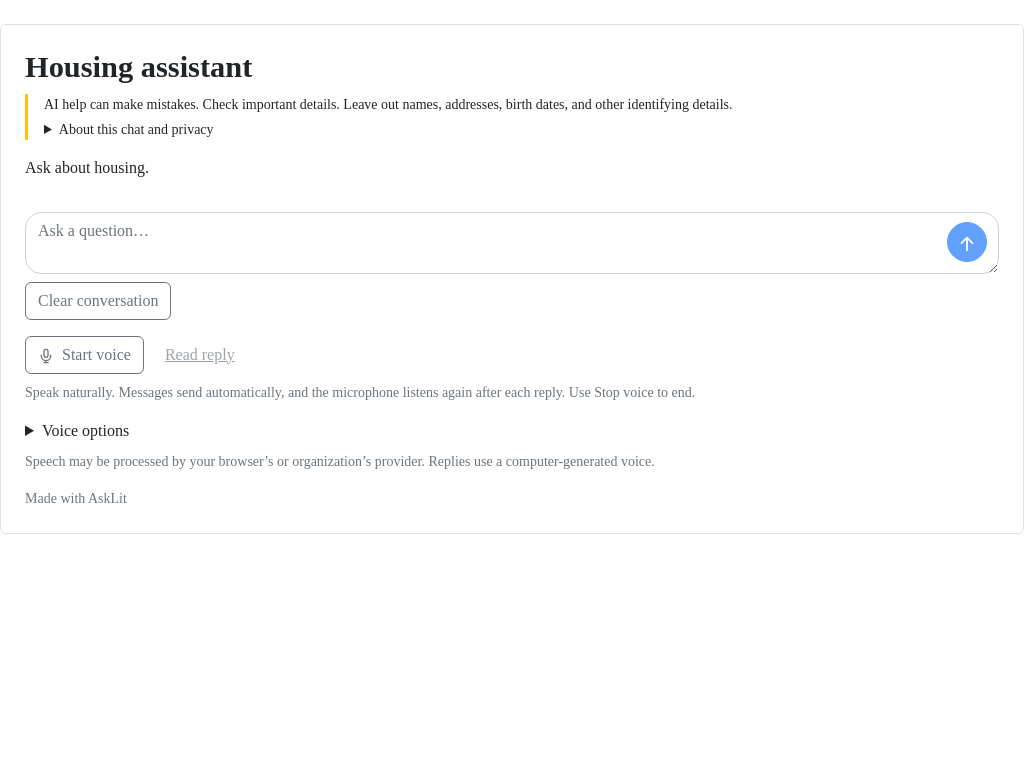
a failed deletion keeps the visible conversation
The image size is (1024, 759).
expect the heading "Housing assistant" is shown: met, box x1=25 y1=50 x2=252 y2=84
Type "Question" into the text box named "Your question".
click(512, 242); type("Question")  # box x1=25 y1=212 x2=999 y2=274
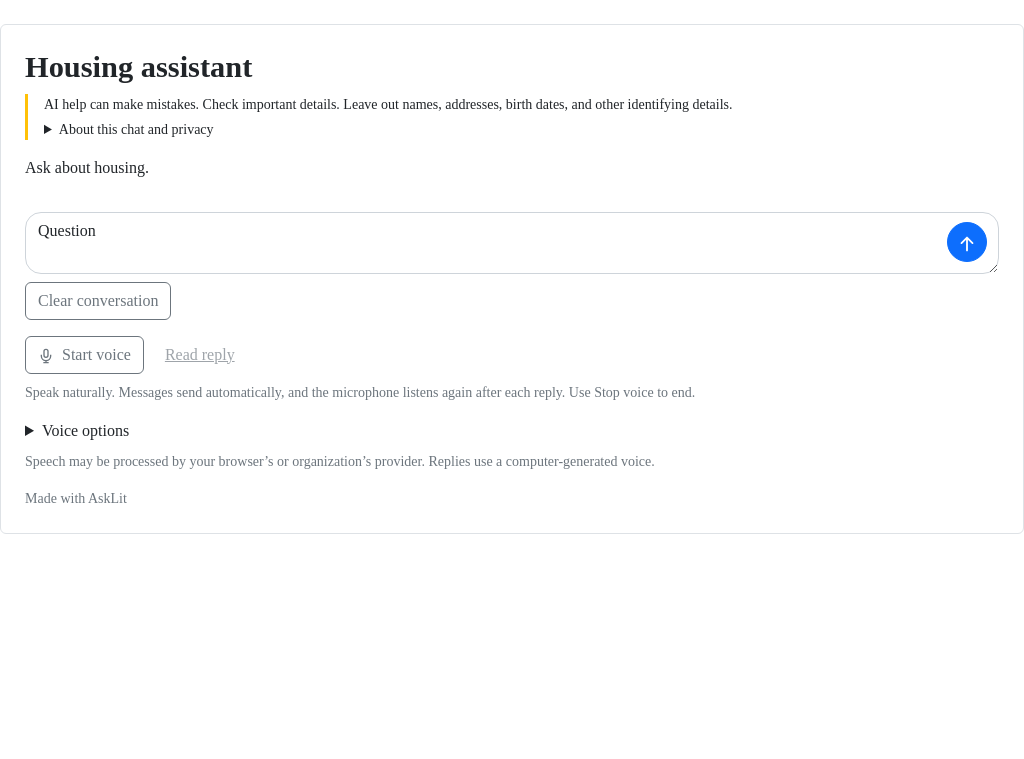
Click the button named "Send".
click(967, 242)  # box x1=947 y1=222 x2=987 y2=262
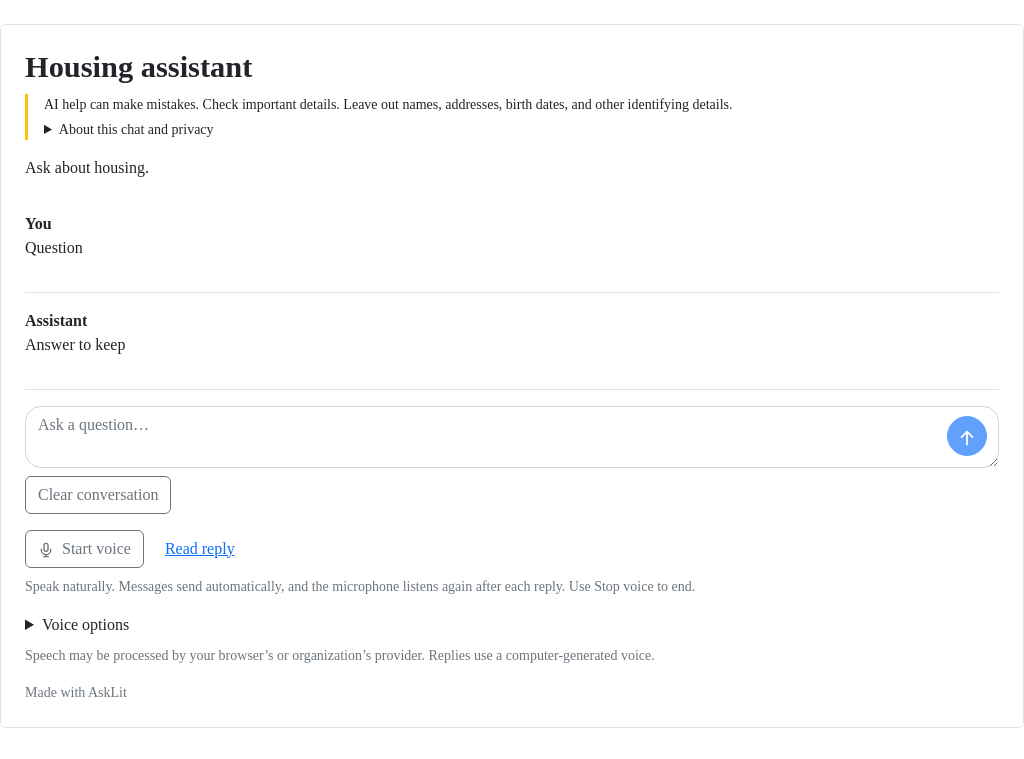
expect the text "Answer to keep" is shown: met, box x1=25 y1=336 x2=125 y2=352
Click the button "Clear conversation".
click(98, 494)  # box x1=25 y1=476 x2=171 y2=514
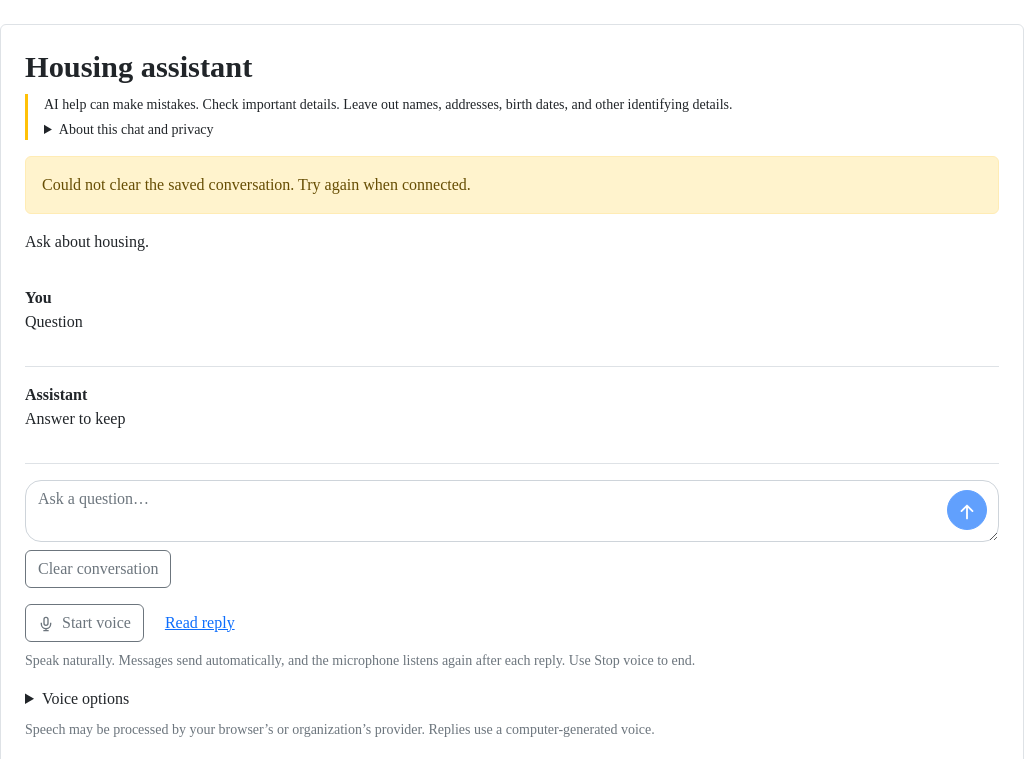
expect the text "Answer to keep" is shown: met, box x1=25 y1=410 x2=125 y2=426
expect the message "Could not clear the saved conversation. Try again when connected." is shown: met, box x1=25 y1=156 x2=999 y2=214
